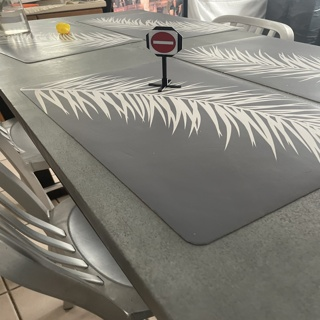sign_noentry: (150, 29, 178, 55)
